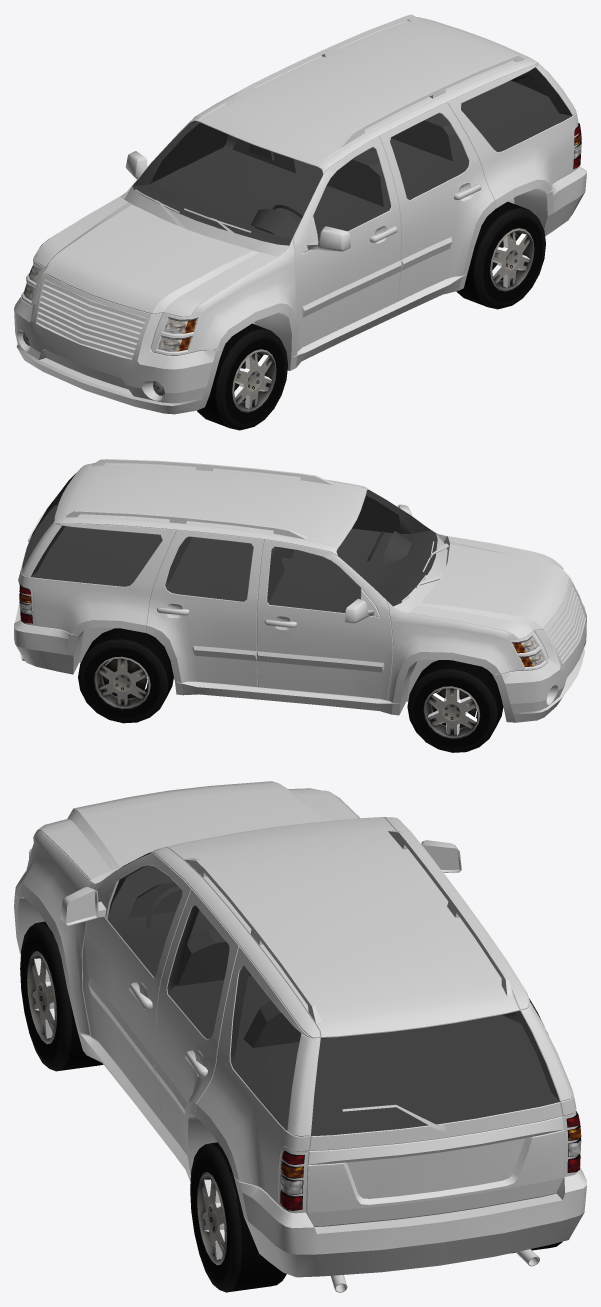
Rendered from suv2.glb.
3 renders of one model, top to bottom at view 1: azimuth 30°, elevation 25°; view 2: azimuth 150°, elevation 25°; view 3: azimuth 270°, elevation 25°, orthographic. The views are drawn at different scales.
Visible parts, largest first — view 1: SUV Body, Wheel_E001_Wheel_0.001, Wheel_E_Wheel_0.001; view 2: SUV Body, Wheel_E003_Wheel_0.001, Wheel_E002_Wheel_0.001; view 3: SUV Body, Wheel_E001_Wheel_0.001, Wheel_E_Wheel_0.001.
Boxes of the visible parts, x1,y1,x2,y2 form: SUV Body: (14,14,586,414); Wheel_E001_Wheel_0.001: (456,201,545,309); Wheel_E_Wheel_0.001: (197,323,287,430); SUV Body: (14,459,586,722); Wheel_E003_Wheel_0.001: (78,628,173,723); Wheel_E002_Wheel_0.001: (407,660,503,752); SUV Body: (14,781,586,1292); Wheel_E001_Wheel_0.001: (190,1142,286,1292); Wheel_E_Wheel_0.001: (20,921,103,1071).
Bounding box in the file's own units: 4.65 × 1.73 × 2.84.
5 materials, 2 textured.
